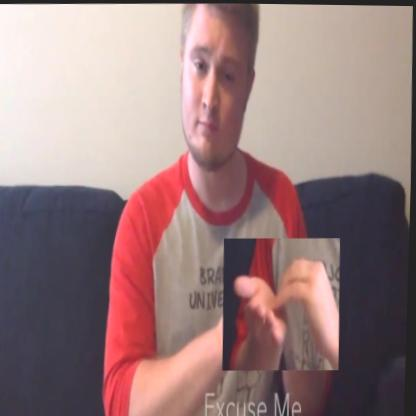ExcuseMe: (221, 236, 344, 371)
